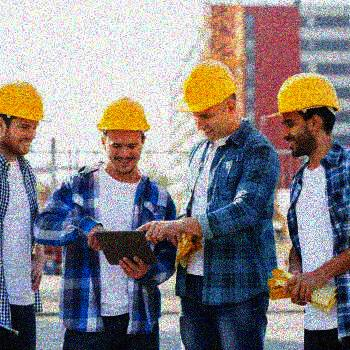helmet: (274, 71, 342, 157), (180, 58, 243, 141), (94, 97, 153, 174), (1, 78, 52, 154)
